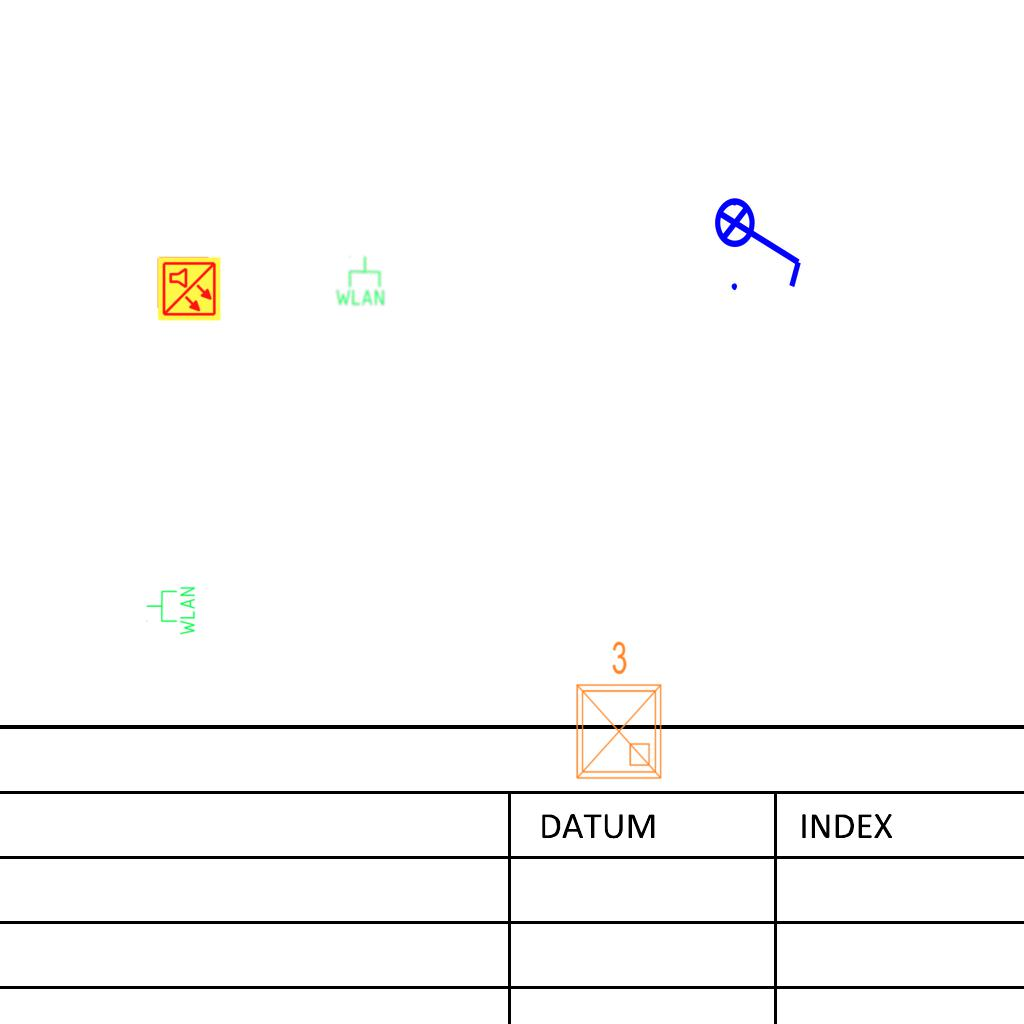Ausschalter_beleuchtet: (713, 184, 809, 296)
Einbaudownlights_LED_Konferenzraeume: (565, 636, 669, 786)
OKW_Multisensormelder_(Kombination_optischer_Rauch-Kahlenmonoxid_Waerme-Melder): (156, 256, 222, 322)
WLAN: (145, 585, 197, 637), (334, 255, 386, 307)
